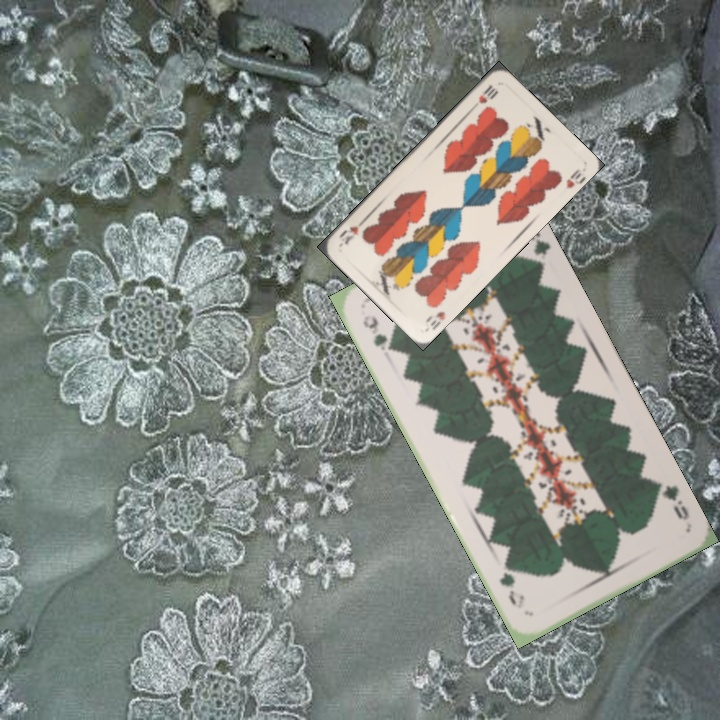G9: (649, 478, 692, 523), (358, 310, 396, 354)
H10: (474, 81, 500, 106), (426, 307, 448, 332)
